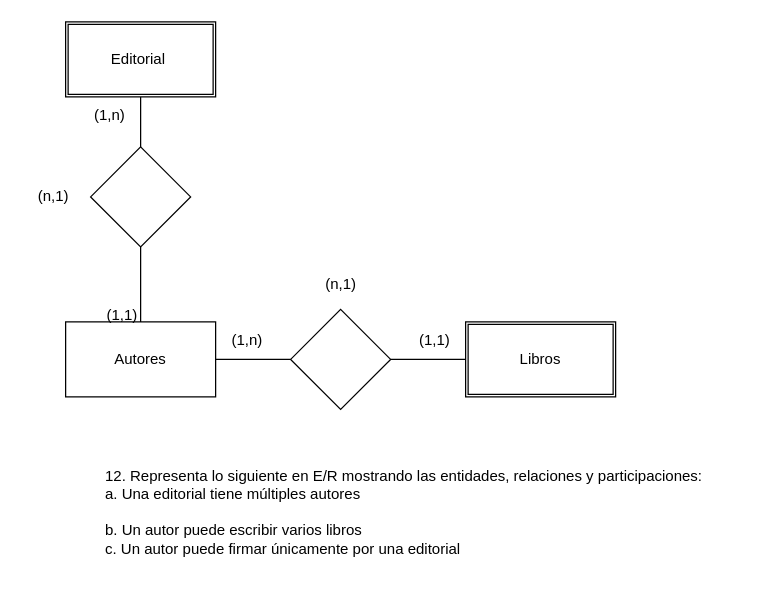
Some shapes in this 761 by 606 pixel diagram are drawn without their labels. Each missing label, with the centre of its shape:
"Puede escribir" belongs at pixel 340 358.
"Tiene" belongs at pixel 140 196.
